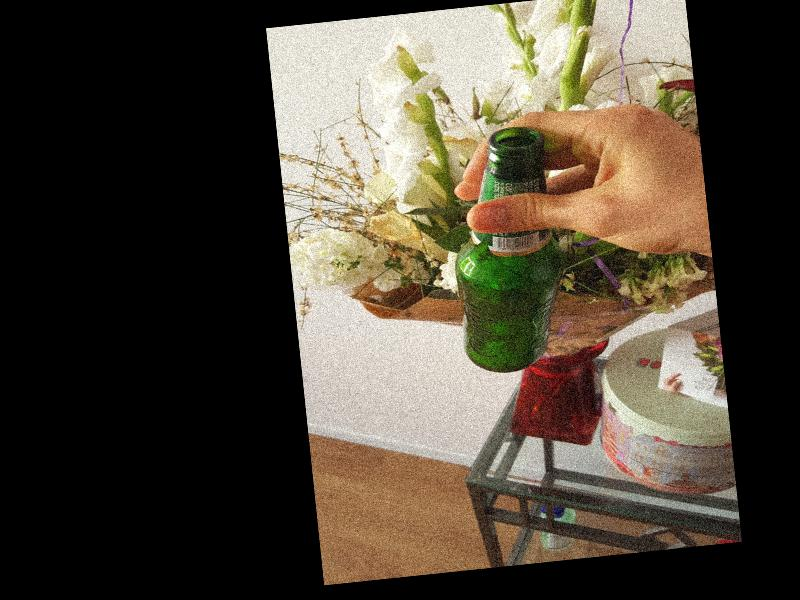Beer: (440, 125, 573, 377)
